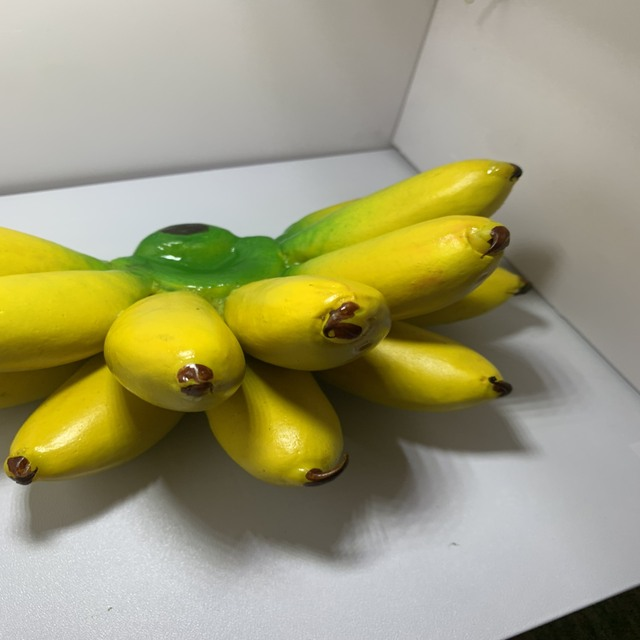Chuoi: (0, 151, 528, 494)
